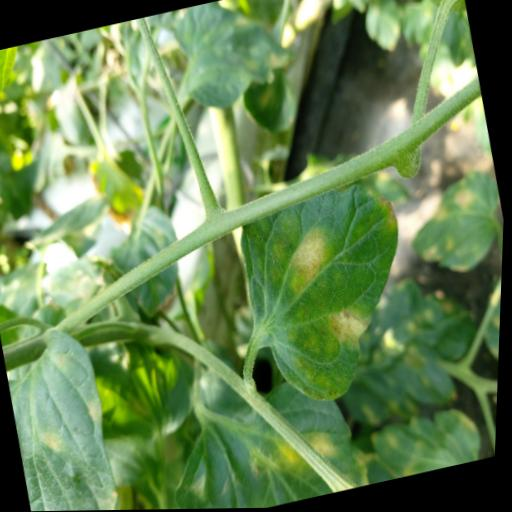Leaf Mold: (227, 176, 432, 414), (157, 363, 377, 510), (0, 319, 134, 512), (398, 167, 507, 284), (368, 403, 489, 483)
